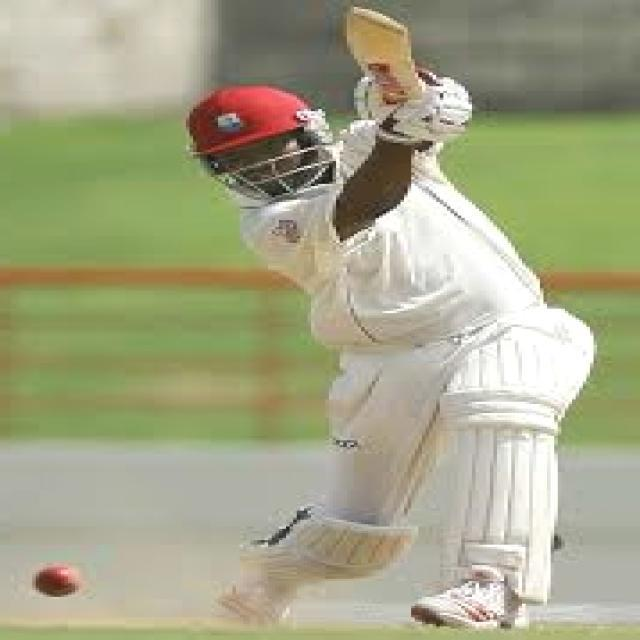bat: (345, 13, 427, 103)
toe: (346, 9, 413, 36)
